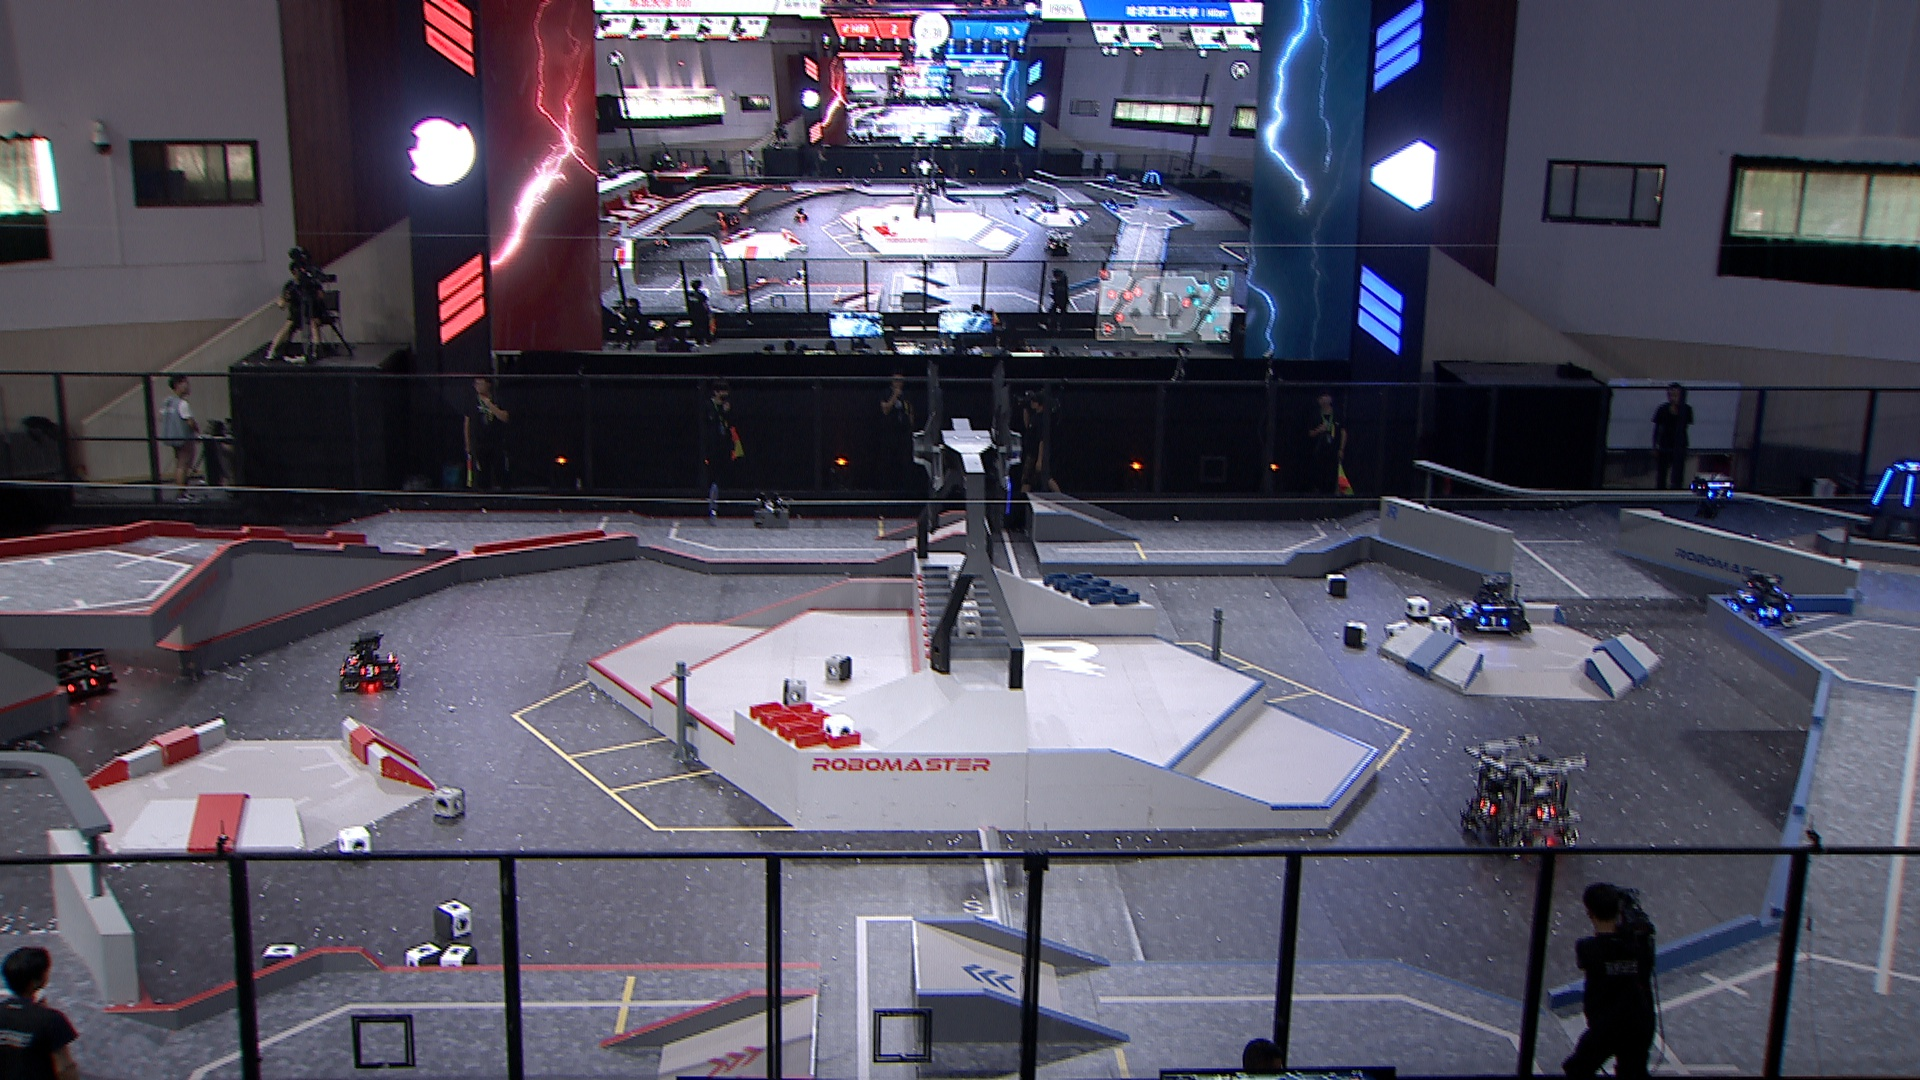armor: (1871, 467, 1892, 506), (65, 676, 98, 694), (1477, 798, 1499, 818), (1902, 473, 1915, 506), (1536, 802, 1557, 822), (1759, 603, 1780, 621), (1705, 488, 1731, 502), (1480, 615, 1509, 628), (357, 665, 380, 680), (1726, 597, 1742, 615), (1735, 589, 1755, 603), (1898, 462, 1920, 472), (344, 651, 361, 665)
base: (1847, 460, 1920, 549)
car: (1460, 731, 1584, 862), (11, 605, 120, 708), (1451, 571, 1534, 637), (335, 626, 405, 694), (1722, 574, 1797, 628)
ignore: (1044, 228, 1073, 258), (1139, 169, 1167, 193), (712, 211, 740, 229), (1036, 194, 1060, 214), (793, 206, 811, 223), (1102, 196, 1120, 210)
watcher: (1687, 471, 1733, 517)
